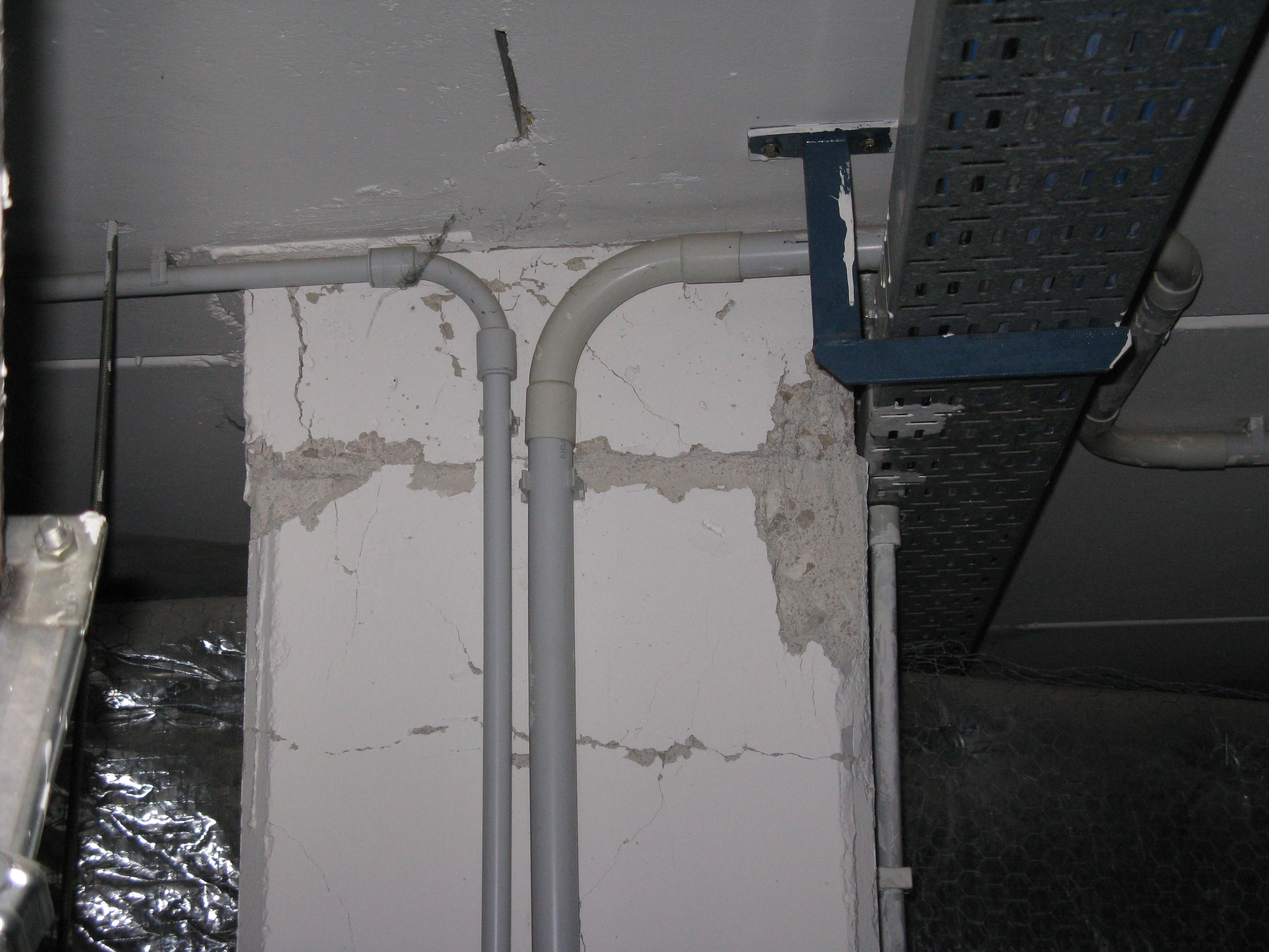Crack: (252, 708, 851, 794), (265, 273, 386, 681), (521, 284, 727, 445), (514, 803, 701, 934), (390, 563, 526, 700), (262, 819, 372, 940)
Spalling: (245, 351, 869, 744)
